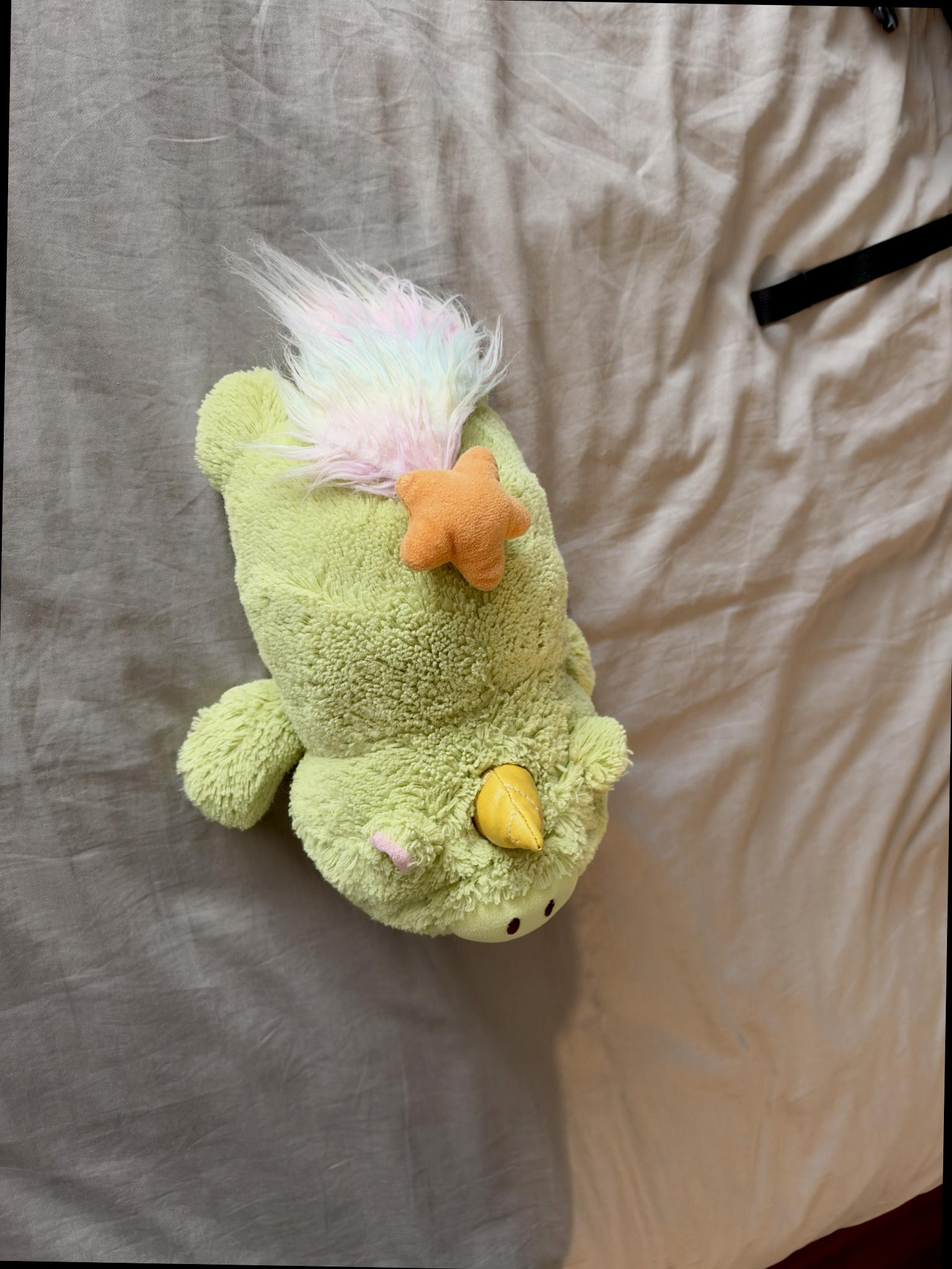peluche_martin: (169, 218, 645, 948)
